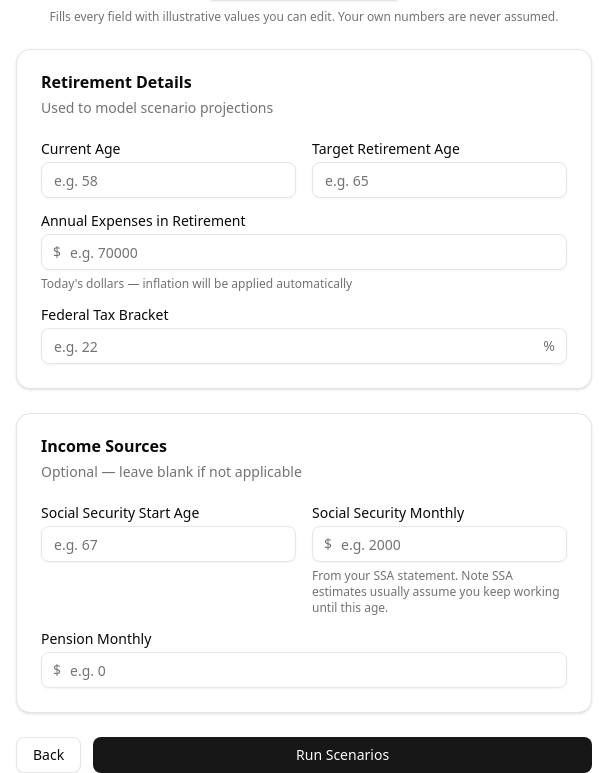
Test: ProfileStep behavior › shows validation feedback and does not advance on an empty form
The image size is (609, 773).
(page scrolled)
Click the button "Run Scenarios": x=343, y=755 x1=93 y1=737 x2=592 y2=772
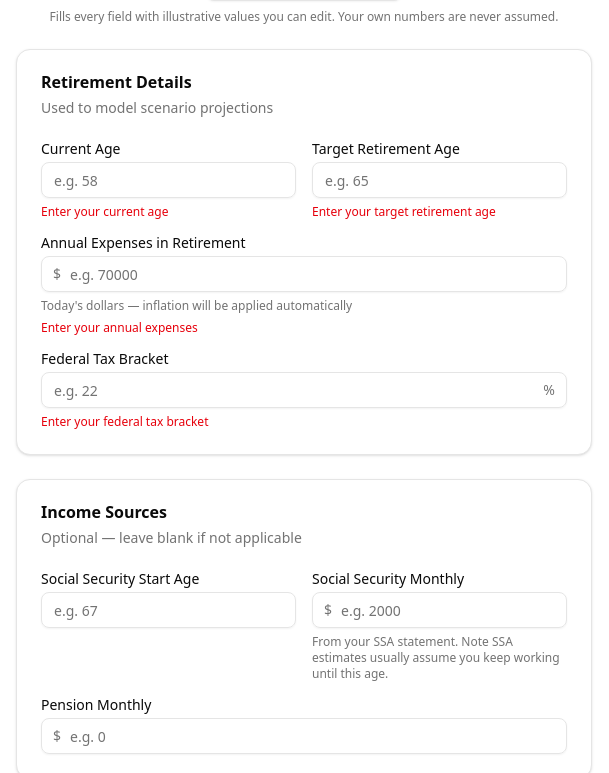
Expected: the text "Enter your current age" is shown, x1=41 y1=203 x2=168 y2=220
Expected: the text "Enter your annual expenses" is shown, x1=41 y1=319 x2=198 y2=336
